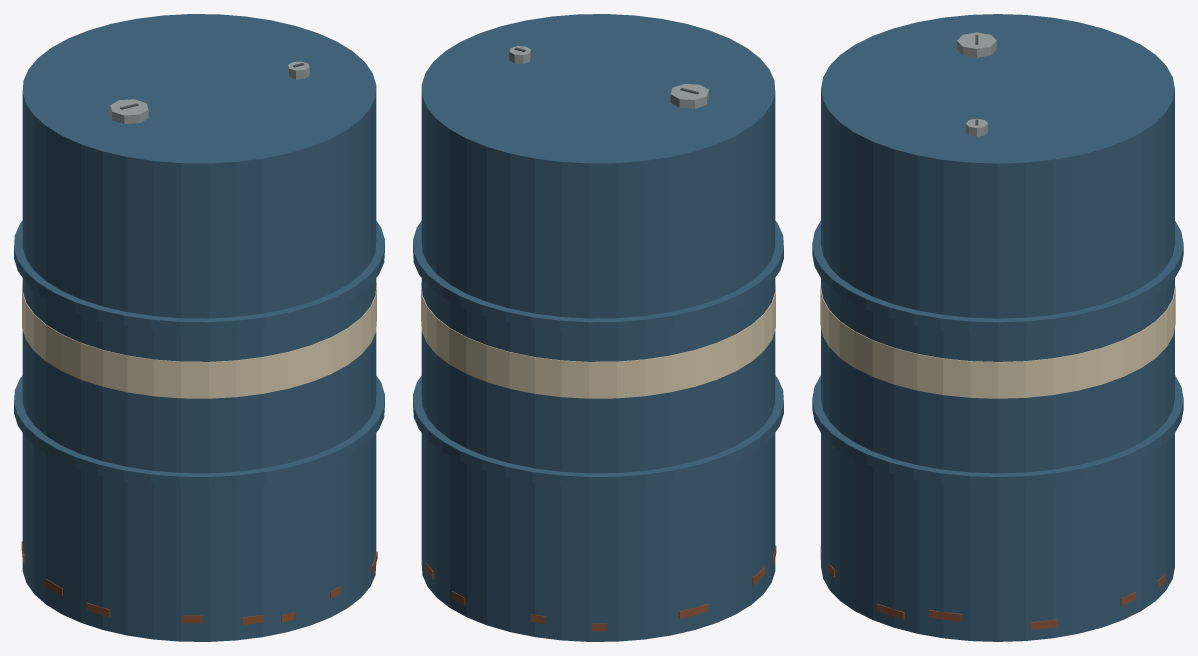
File: JUNK_DrumBlue.glb
The picture shows the model from 3 angles, left to right: view 1: azimuth 30°, elevation 25°; view 2: azimuth 150°, elevation 25°; view 3: azimuth 270°, elevation 25°; orthographic projection.
Visible parts, largest first — view 1: Shell, Stripe, RolledHoops, Bungs, FootScuffs; view 2: Shell, Stripe, RolledHoops, Bungs, FootScuffs; view 3: Shell, Stripe, RolledHoops, Bungs, FootScuffs.
Part boxes in pixels (x1,y1,x2,y2): Shell: (22, 14, 376, 641); Stripe: (22, 282, 376, 398); RolledHoops: (14, 221, 384, 487); Bungs: (110, 61, 309, 124); FootScuffs: (21, 541, 377, 624); Shell: (421, 14, 775, 641); Stripe: (421, 282, 775, 398); RolledHoops: (413, 221, 783, 487); Bungs: (509, 46, 708, 108); FootScuffs: (426, 545, 776, 631); Shell: (821, 14, 1174, 641); Stripe: (820, 285, 1175, 398); RolledHoops: (812, 221, 1183, 487); Bungs: (957, 32, 996, 136); FootScuffs: (820, 546, 1165, 629).
Size of the model in its own units: 0.598 by 0.868 by 0.598.
